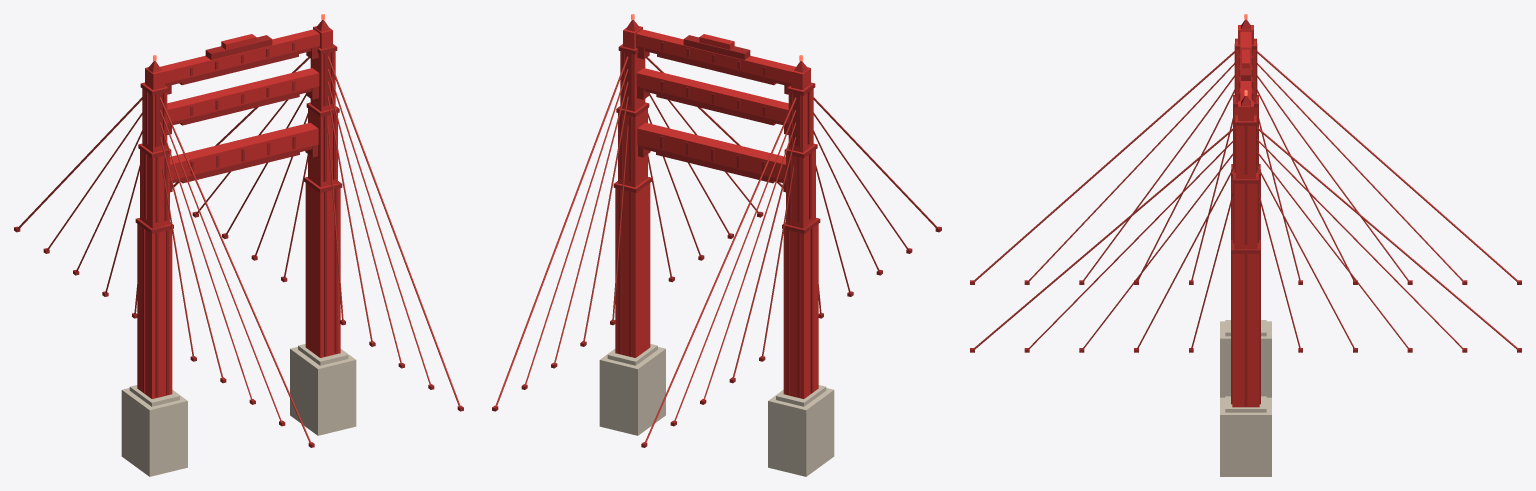
File: tower.glb
3 renders of one model, left to right at view 1: azimuth 30°, elevation 25°; view 2: azimuth 150°, elevation 25°; view 3: azimuth 270°, elevation 25°, orthographic. The views are drawn at different scales.
Visible parts, largest first — view 1: tower; view 2: tower; view 3: tower.
Boxes of the visible parts, x1,y1,x2,y2 form: tower: (14, 14, 463, 476); tower: (492, 14, 941, 476); tower: (970, 14, 1521, 476).
Bounding box in the file's own units: 16.2 × 30.45 × 40.36.
